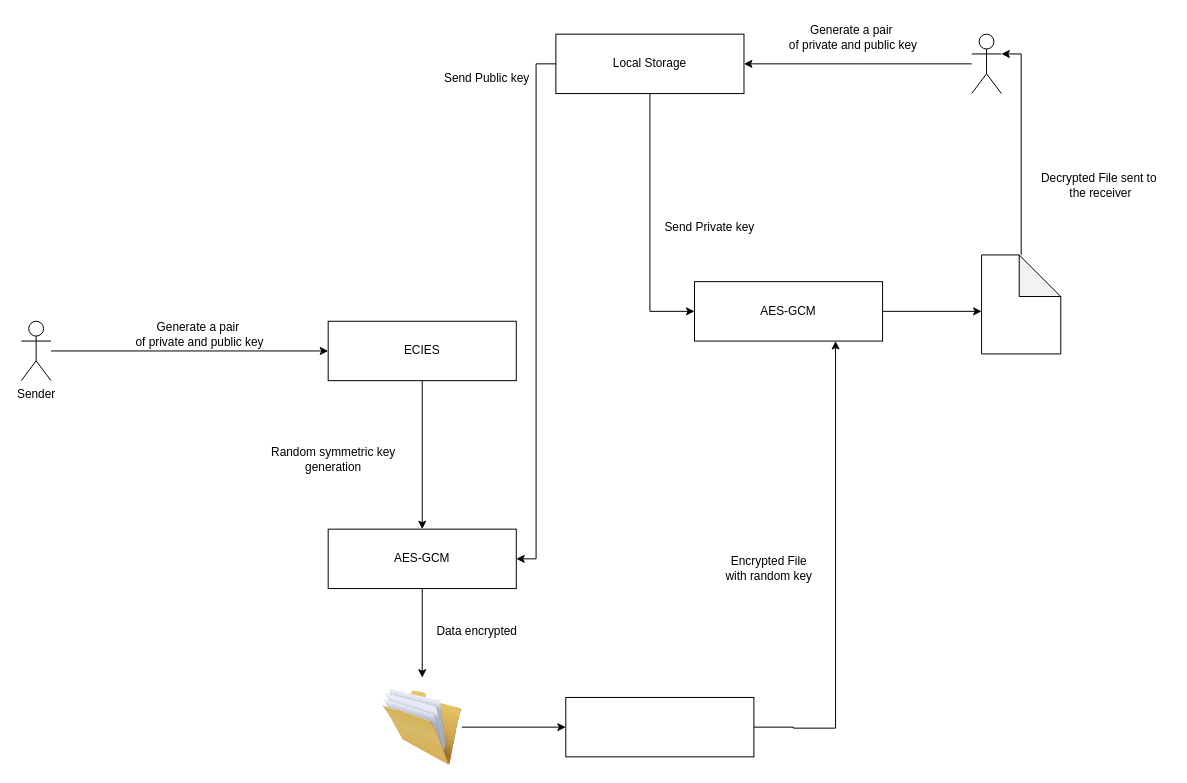
Image size: 1187x783. Some labels were removed from this diagram. Here are the shapes that lost their labels. From the top down, the centre of each, then its label:
At pixel 986 63: "Receiver".
At pixel 659 726: "End-to end encryption sending".
